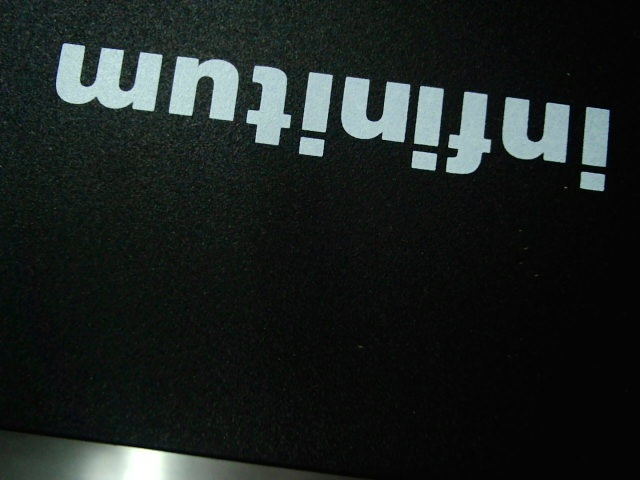BK_infinitum: (49, 40, 619, 195)
